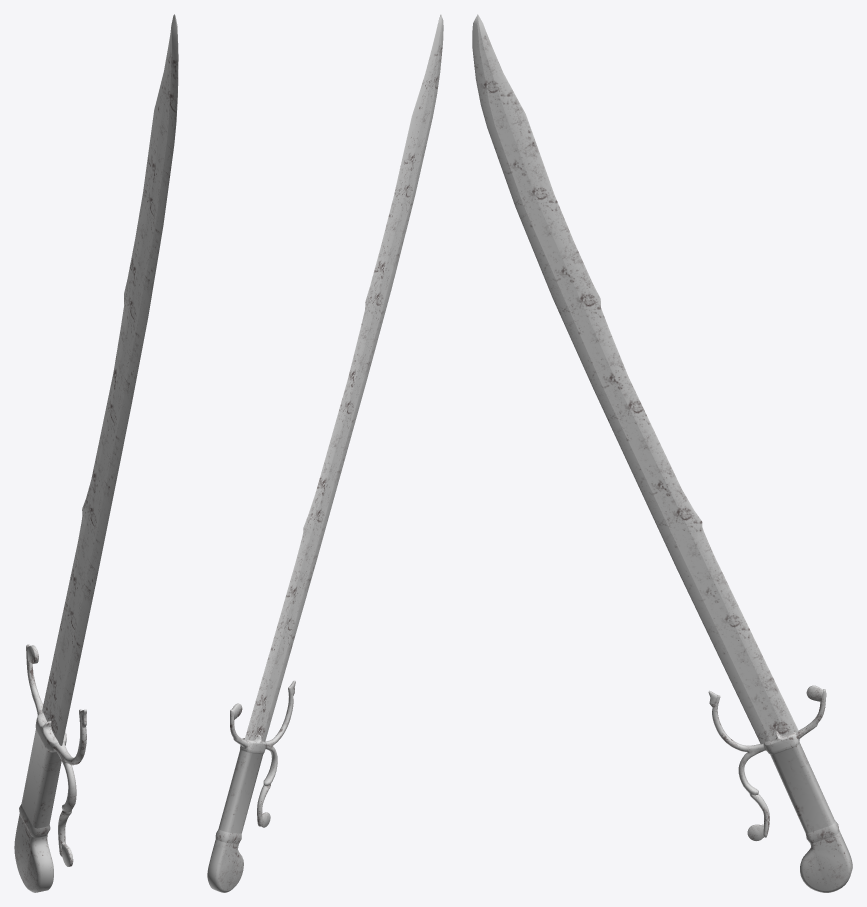
Rendered from whfalchion.glb.
3 renders of one model, left to right at view 1: azimuth 30°, elevation 25°; view 2: azimuth 150°, elevation 25°; view 3: azimuth 270°, elevation 25°, orthographic. The views are drawn at different scales.
Parts seen in each view (by area): view 1: Falchion; view 2: Falchion; view 3: Falchion.
Part boxes in pixels (<box>): Falchion: <box>14,14,178,892</box>; Falchion: <box>207,14,443,892</box>; Falchion: <box>472,14,852,892</box>.
Bounding box in the file's own units: 33.63 × 378 × 154.
1 material, 1 textured.
